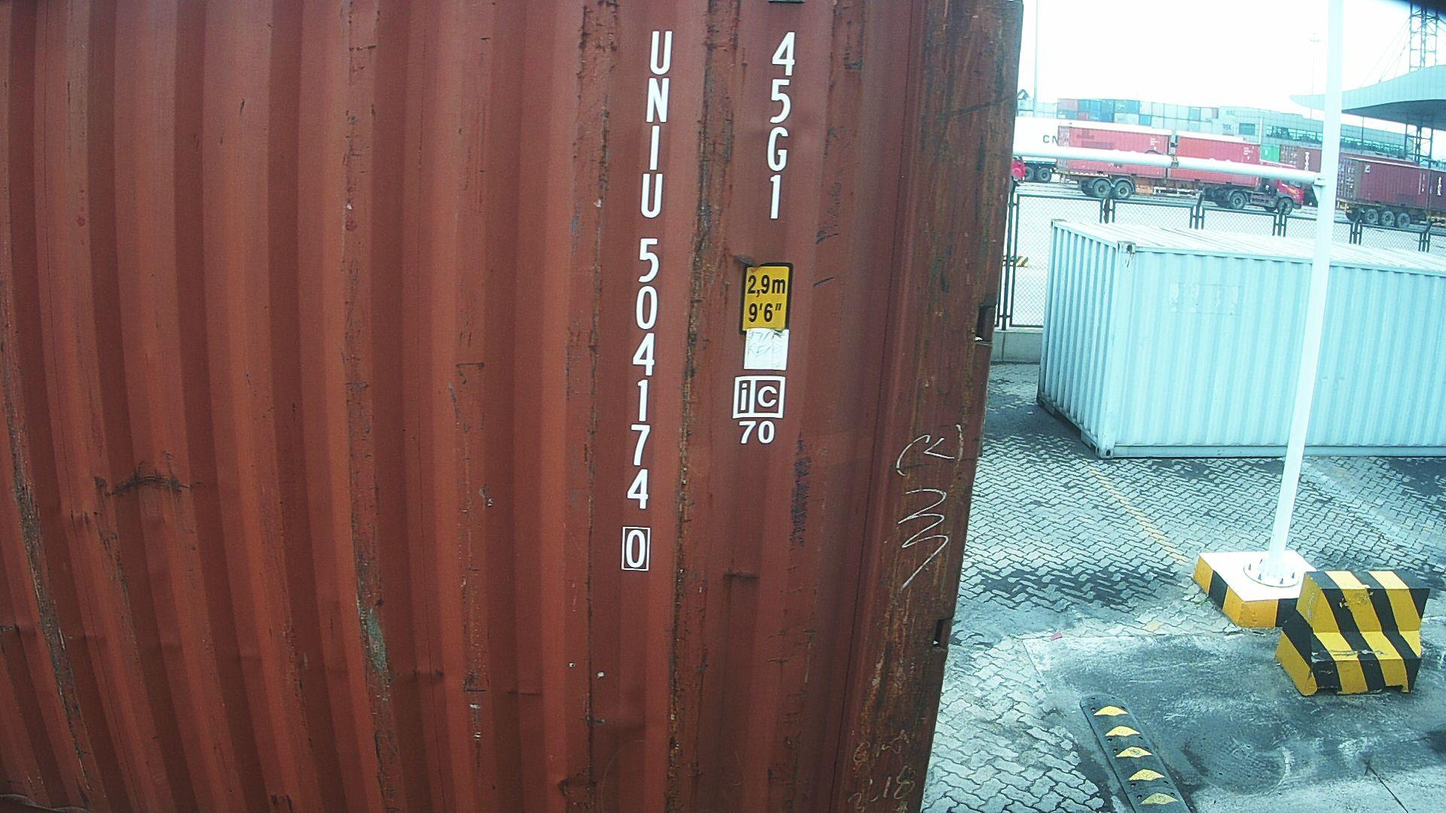container-numbers: (613, 22, 673, 577), (758, 26, 802, 224)
